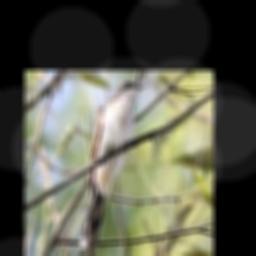Cuckoo: (79, 80, 148, 256)
